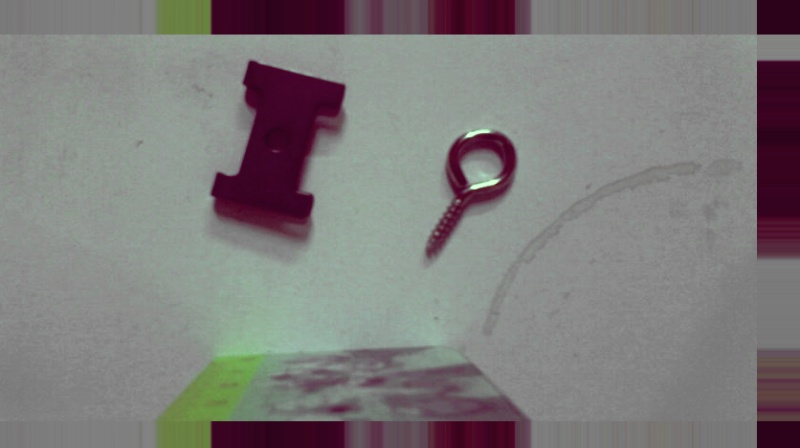O001: (418, 124, 522, 263)
O002: (206, 57, 349, 220)
